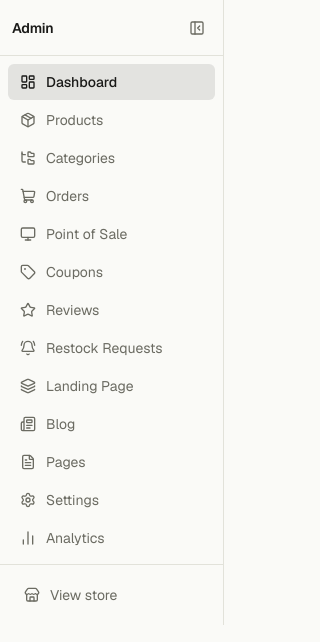
Test: AdminSidebar › collapses and expands when the toggle button is clicked
Click the button named "Collapse sidebar": (197, 28) x1=183 y1=14 x2=211 y2=42
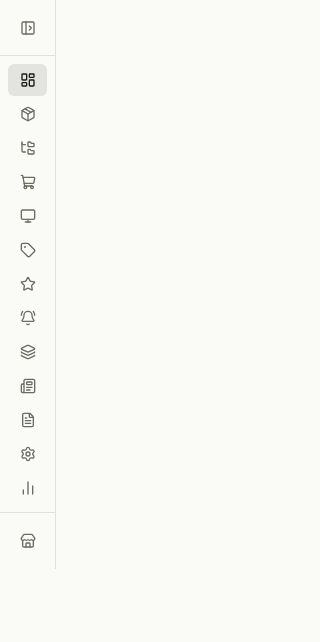
Expected: the text "Admin" is gone
Expected: the link "Dashboard" is gone
Expected: the button named "Expand sidebar" is shown
Click the button named "Expand sidebar": (28, 28) x1=14 y1=14 x2=42 y2=42
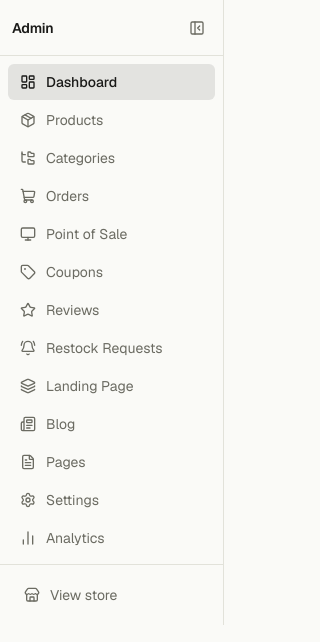
Expected: the link "Dashboard" is shown, x1=8 y1=64 x2=215 y2=100
Expected: the text "Admin" is shown, x1=12 y1=18 x2=53 y2=36
